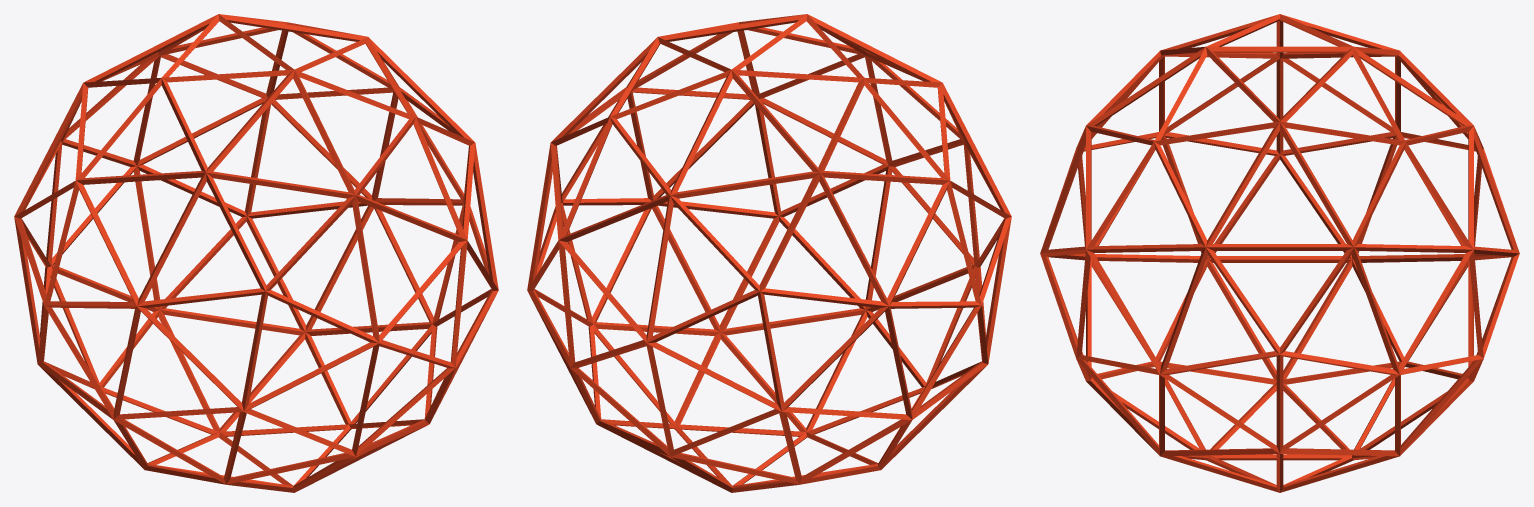
File: red_vine_ball2.glb
3 views of the same model, side by side, from view 1: azimuth 30°, elevation 25°; view 2: azimuth 150°, elevation 25°; view 3: azimuth 270°, elevation 25° (orthographic). The views are drawn at different scales.
Parts seen in each view (by area): view 1: Object_4; view 2: Object_4; view 3: Object_4.
Part boxes in pixels (<box>): Object_4: <box>14,14,498,492</box>; Object_4: <box>527,14,1011,492</box>; Object_4: <box>1040,14,1519,492</box>.
Size of the model in its own units: 1.02 by 0.9668 by 1.02.
